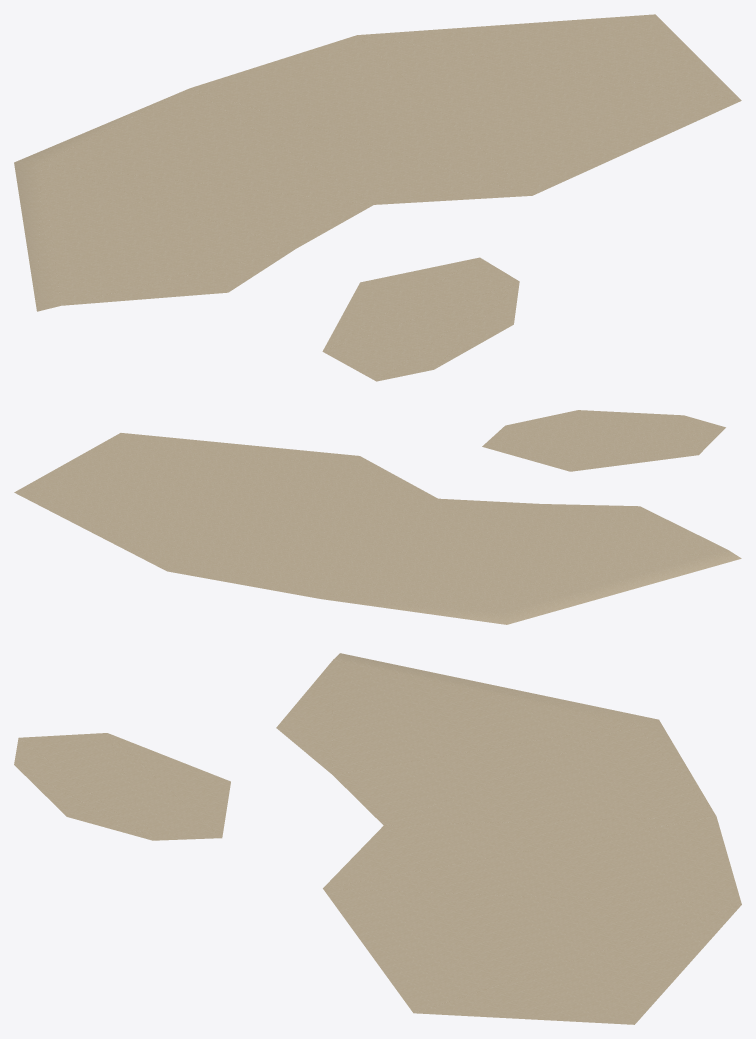
Rendered from kd_stage_136599_10_0_bounded.glb.
3 views of the same model, one above another, from view 1: azimuth 30°, elevation 25°; view 2: azimuth 150°, elevation 25°; view 3: azimuth 270°, elevation 25° (orthographic). The views are drawn at different scales.
Parts seen in each view (by area): view 1: kd_stage_136599_10_0_bounded; view 2: kd_stage_136599_10_0_bounded; view 3: kd_stage_136599_10_0_bounded.
Boxes of the visible parts, <box> form: kd_stage_136599_10_0_bounded: <box>14,14,741,381</box>; kd_stage_136599_10_0_bounded: <box>14,410,741,624</box>; kd_stage_136599_10_0_bounded: <box>14,653,741,1024</box>.
Size of the model in its own units: 83.05 by 0.357 by 68.09.
1 material, 1 textured.
